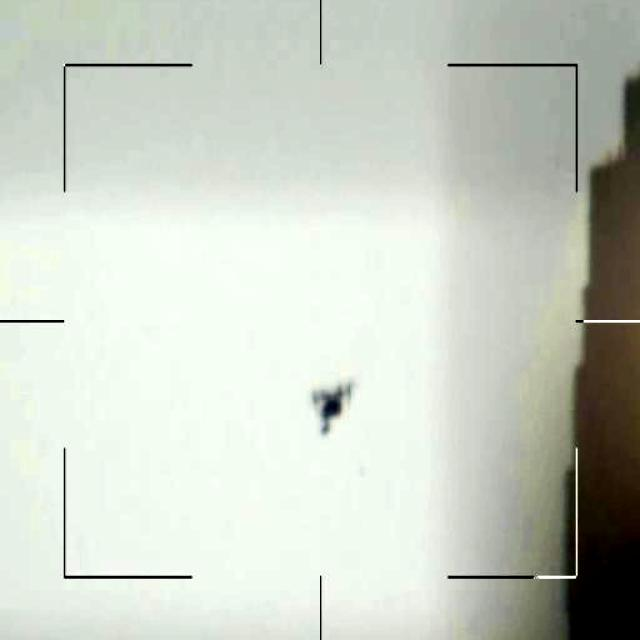bird: (304, 366, 356, 442)
